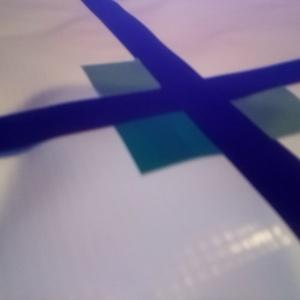bottom_left: (114, 98, 228, 174)
bottom_right: (213, 77, 300, 141)
top_left: (82, 59, 180, 108)
